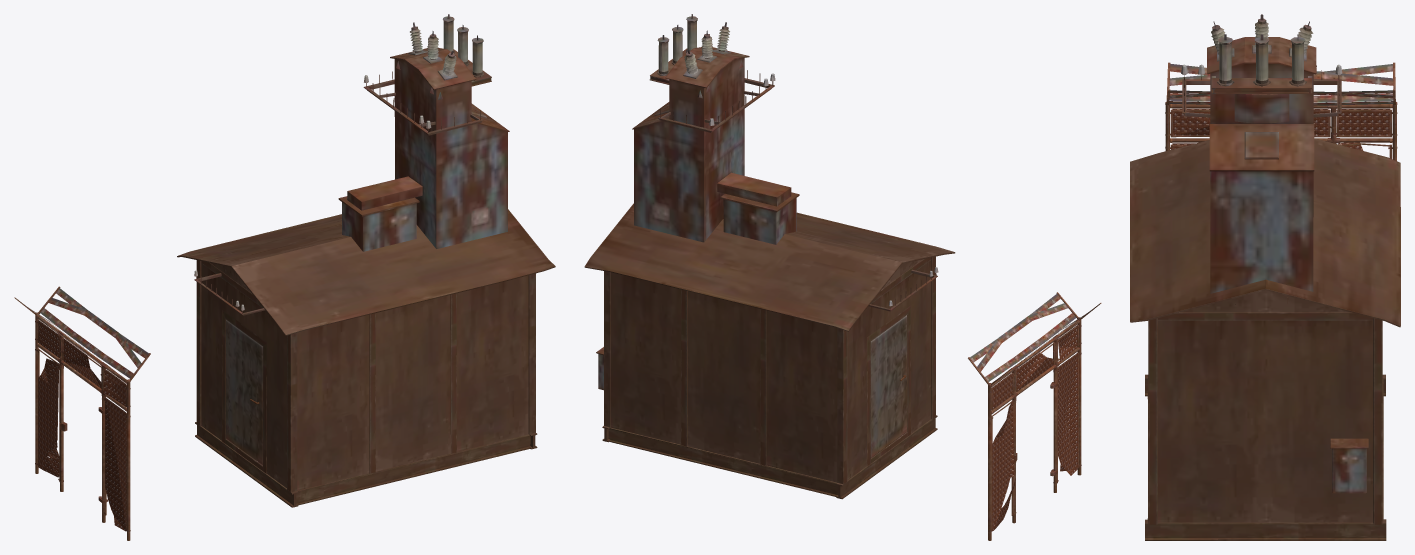
The model's file is power_sub_small_1-map.glb.
The picture shows the model from 3 angles, left to right: view 1: azimuth 30°, elevation 25°; view 2: azimuth 150°, elevation 25°; view 3: azimuth 270°, elevation 25°; orthographic projection. The views are drawn at different scales.
Visible parts, largest first — view 1: substation_d_LOD0, substation_a_LOD0, chainlink_fence_3x3_gate_LOD0; view 2: substation_d_LOD0, substation_a_LOD0, chainlink_fence_3x3_gate_LOD0; view 3: substation_d_LOD0, substation_a_LOD0, chainlink_fence_3x3_gate_LOD0.
Boxes of the visible parts, bbox=[...] form: substation_d_LOD0: bbox=[177, 209, 555, 490]; substation_a_LOD0: bbox=[194, 14, 537, 507]; chainlink_fence_3x3_gate_LOD0: bbox=[14, 286, 150, 540]; substation_d_LOD0: bbox=[584, 203, 955, 482]; substation_a_LOD0: bbox=[596, 14, 938, 499]; chainlink_fence_3x3_gate_LOD0: bbox=[968, 292, 1101, 540]; substation_d_LOD0: bbox=[1130, 138, 1400, 522]; substation_a_LOD0: bbox=[1145, 14, 1386, 540]; chainlink_fence_3x3_gate_LOD0: bbox=[1165, 62, 1397, 160].
Bounding box in the file's own units: 8.07 × 7.05 × 3.5.
Materials: 6 (6 with a texture image).
